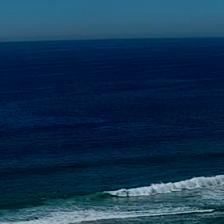surfer: (52, 190, 60, 194), (26, 218, 29, 222), (36, 217, 38, 219)
